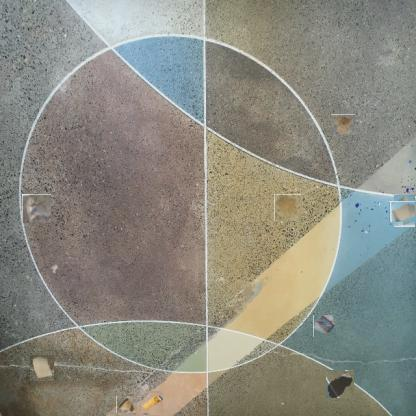dirty: (22, 194, 51, 223), (391, 198, 416, 224), (30, 355, 54, 381), (313, 316, 336, 338), (332, 114, 355, 136), (140, 392, 162, 414), (117, 395, 137, 414)
liquid: (326, 370, 354, 398), (274, 194, 301, 221)
